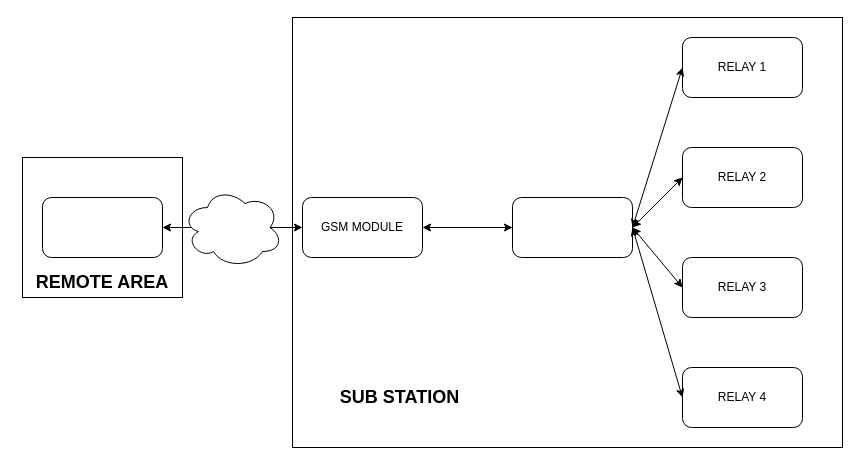
Image size: 860x465. Some labels were removed from this diagram. The shapes that lost their labels are listed below. From the top down, each one's box as (x1, y1, x2, y2) in pixels, then its label:
(42, 196, 162, 258): LINEMAN'S MOBILE
(182, 186, 282, 268): NETWORK
(512, 196, 632, 258): PROCESSOR
